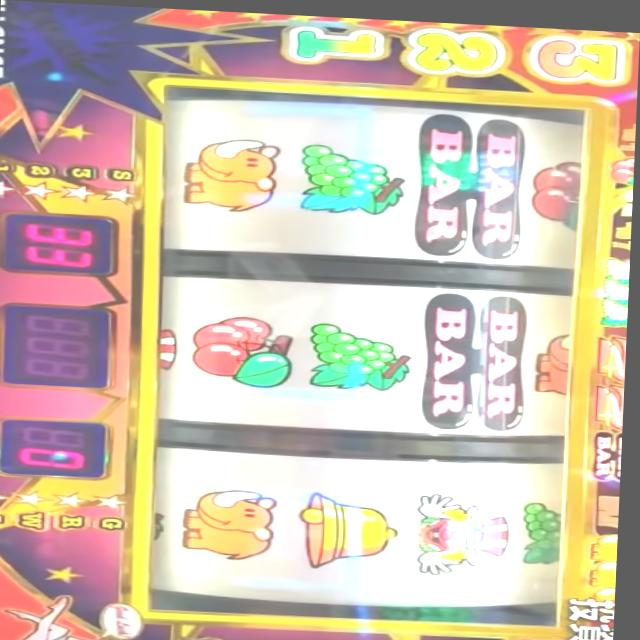bar: (412, 108, 531, 255), (420, 285, 536, 429), (595, 424, 626, 475)
bell: (303, 487, 403, 571)
cherry: (190, 311, 299, 388), (530, 151, 583, 227), (607, 147, 636, 181)
clown: (415, 485, 519, 575)
display: (151, 83, 593, 628)
elephant: (183, 482, 284, 561), (183, 133, 285, 211), (536, 320, 574, 392), (591, 526, 623, 556), (590, 555, 621, 582)
grape: (297, 139, 409, 213), (310, 316, 416, 389), (519, 492, 568, 559), (599, 247, 632, 276), (599, 294, 631, 320), (602, 272, 631, 295)
z: (595, 375, 628, 422), (598, 328, 629, 377)
